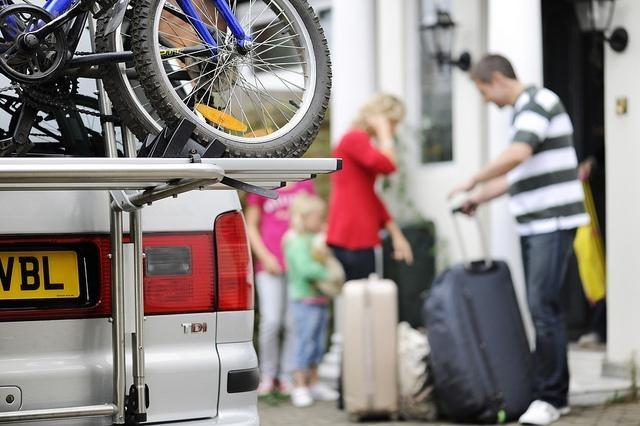bicycle: (0, 3, 327, 155), (1, 66, 162, 156)
car: (1, 188, 262, 420)
